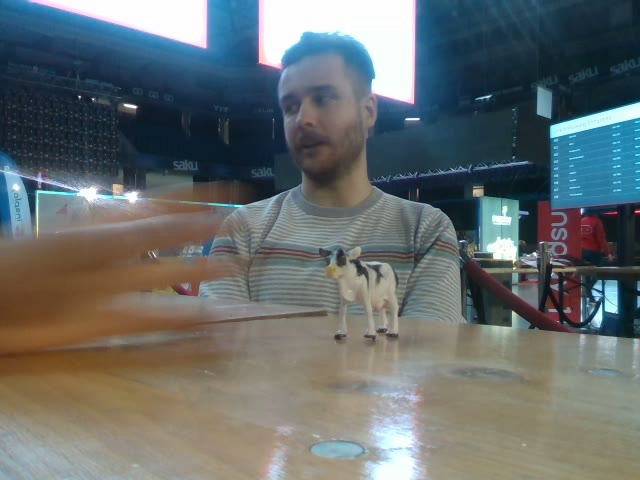toy: (315, 246, 399, 341)
